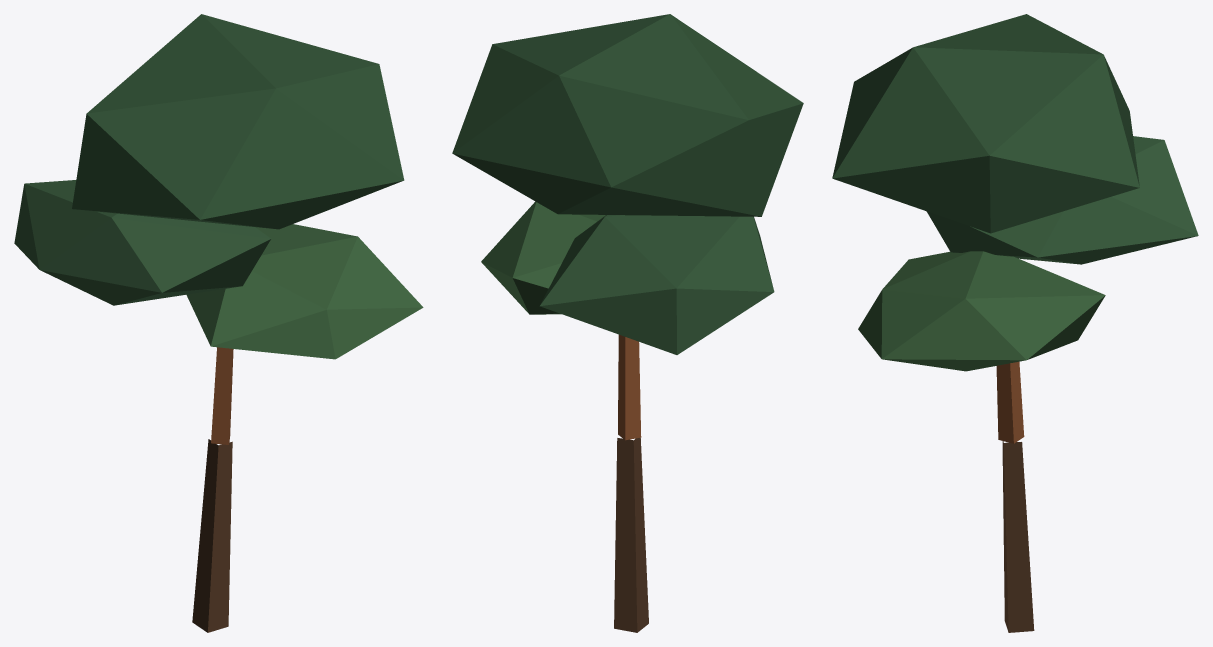
The model's file is scots_pine_far.glb.
3 views of the same model, side by side, from view 1: azimuth 30°, elevation 25°; view 2: azimuth 150°, elevation 25°; view 3: azimuth 270°, elevation 25° (orthographic). The views are drawn at different scales.
Parts seen in each view (by area): view 1: scots_pine_far; view 2: scots_pine_far; view 3: scots_pine_far.
Part boxes in pixels (x1,y1,x2,y2): scots_pine_far: [14, 14, 423, 632]; scots_pine_far: [452, 14, 803, 632]; scots_pine_far: [832, 14, 1198, 632].
Size of the model in its own units: 6.29 by 11.09 by 6.26.
